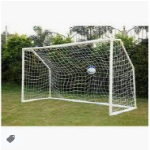goals: (21, 38, 139, 115)
